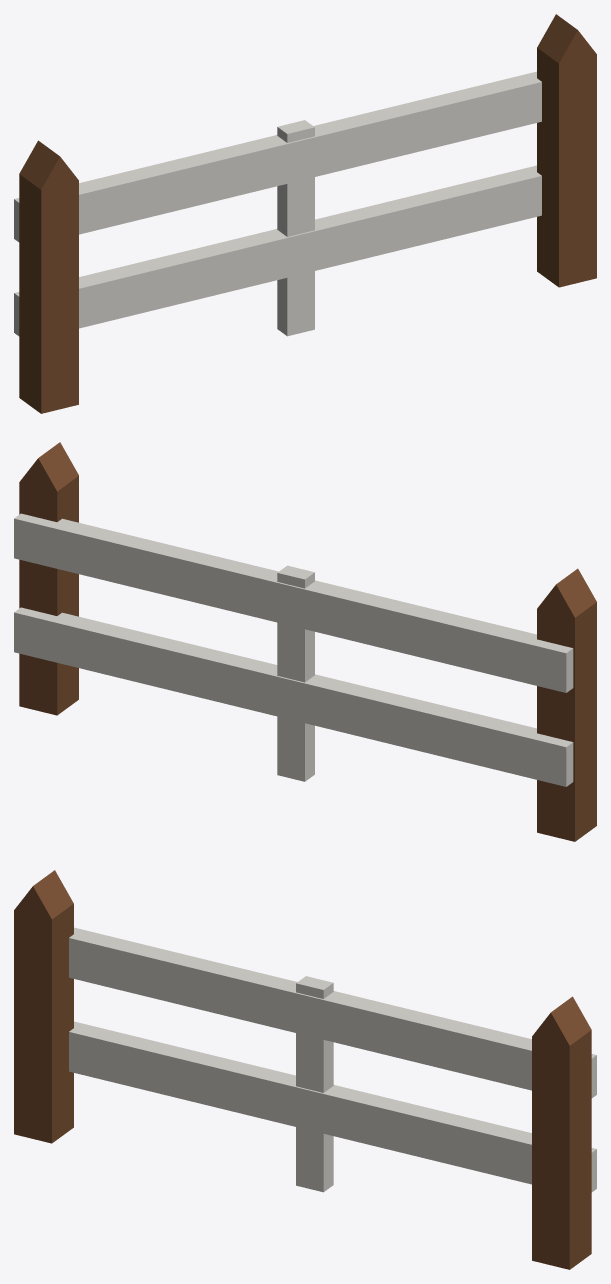
The model's file is Fence.fbx.
3 views of the same model, one above another, from view 1: azimuth 30°, elevation 25°; view 2: azimuth 150°, elevation 25°; view 3: azimuth 330°, elevation 25° (orthographic).
Visible parts, largest first — view 1: Fence; view 2: Fence; view 3: Fence.
Part boxes in pixels (<box>): Fence: <box>14,14,596,413</box>; Fence: <box>14,442,596,841</box>; Fence: <box>14,870,596,1269</box>.
Bounding box in the file's own units: 225 × 98 × 20.3.
